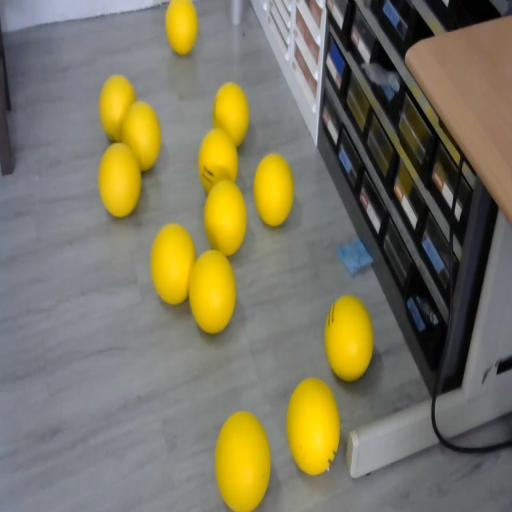FUEL: (214, 410, 271, 510), (286, 376, 341, 474), (324, 294, 374, 381), (149, 221, 197, 305), (188, 249, 236, 333), (203, 178, 247, 256), (97, 142, 142, 218), (253, 153, 294, 227), (99, 75, 137, 142), (214, 82, 250, 146), (165, 0, 198, 56)
